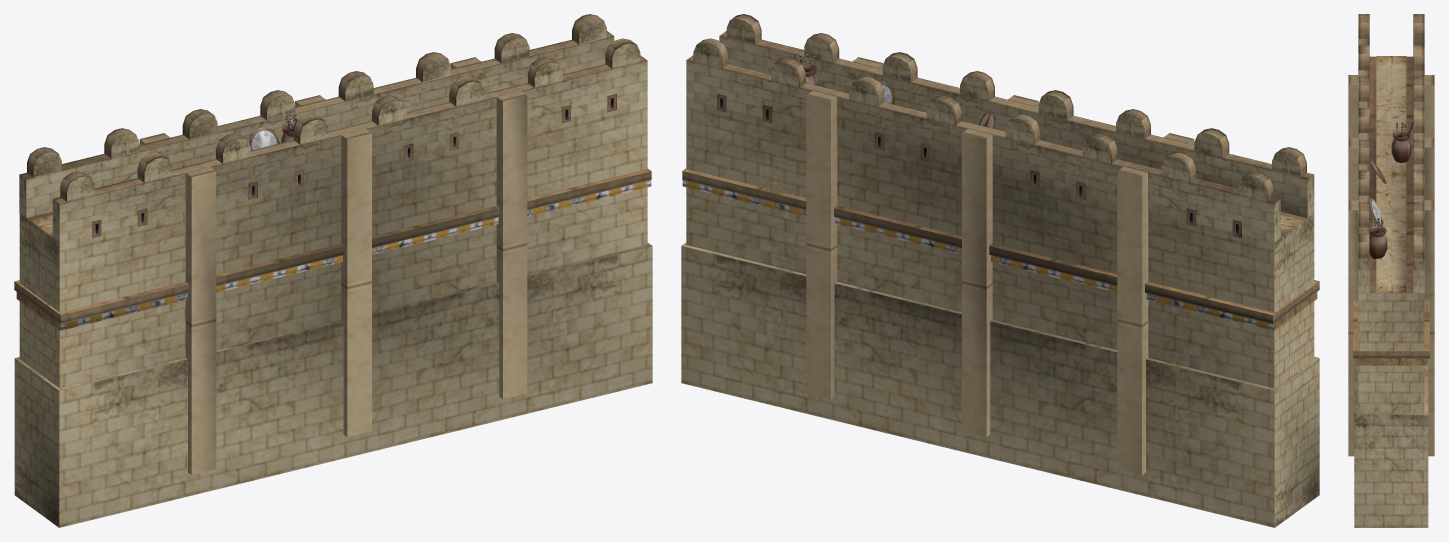
File: s_ptolemies_wall_long.glb
3 views of the same model, side by side, from view 1: azimuth 30°, elevation 25°; view 2: azimuth 150°, elevation 25°; view 3: azimuth 270°, elevation 25° (orthographic). The views are drawn at different scales.
Visible parts, largest first — view 1: s_ptolemies_wall_long_part0; view 2: s_ptolemies_wall_long_part0; view 3: s_ptolemies_wall_long_part0.
Boxes of the visible parts, left/top/right/bottom form: s_ptolemies_wall_long_part0: left=14, top=14, right=652, bottom=527; s_ptolemies_wall_long_part0: left=681, top=14, right=1319, bottom=527; s_ptolemies_wall_long_part0: left=1348, top=14, right=1434, bottom=527.
Bounding box in the file's own units: 9.59 × 5.3 × 1.46.
1 material, 1 textured.
